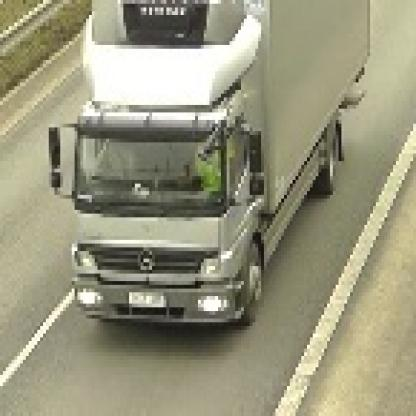truck: (50, 1, 368, 327)
